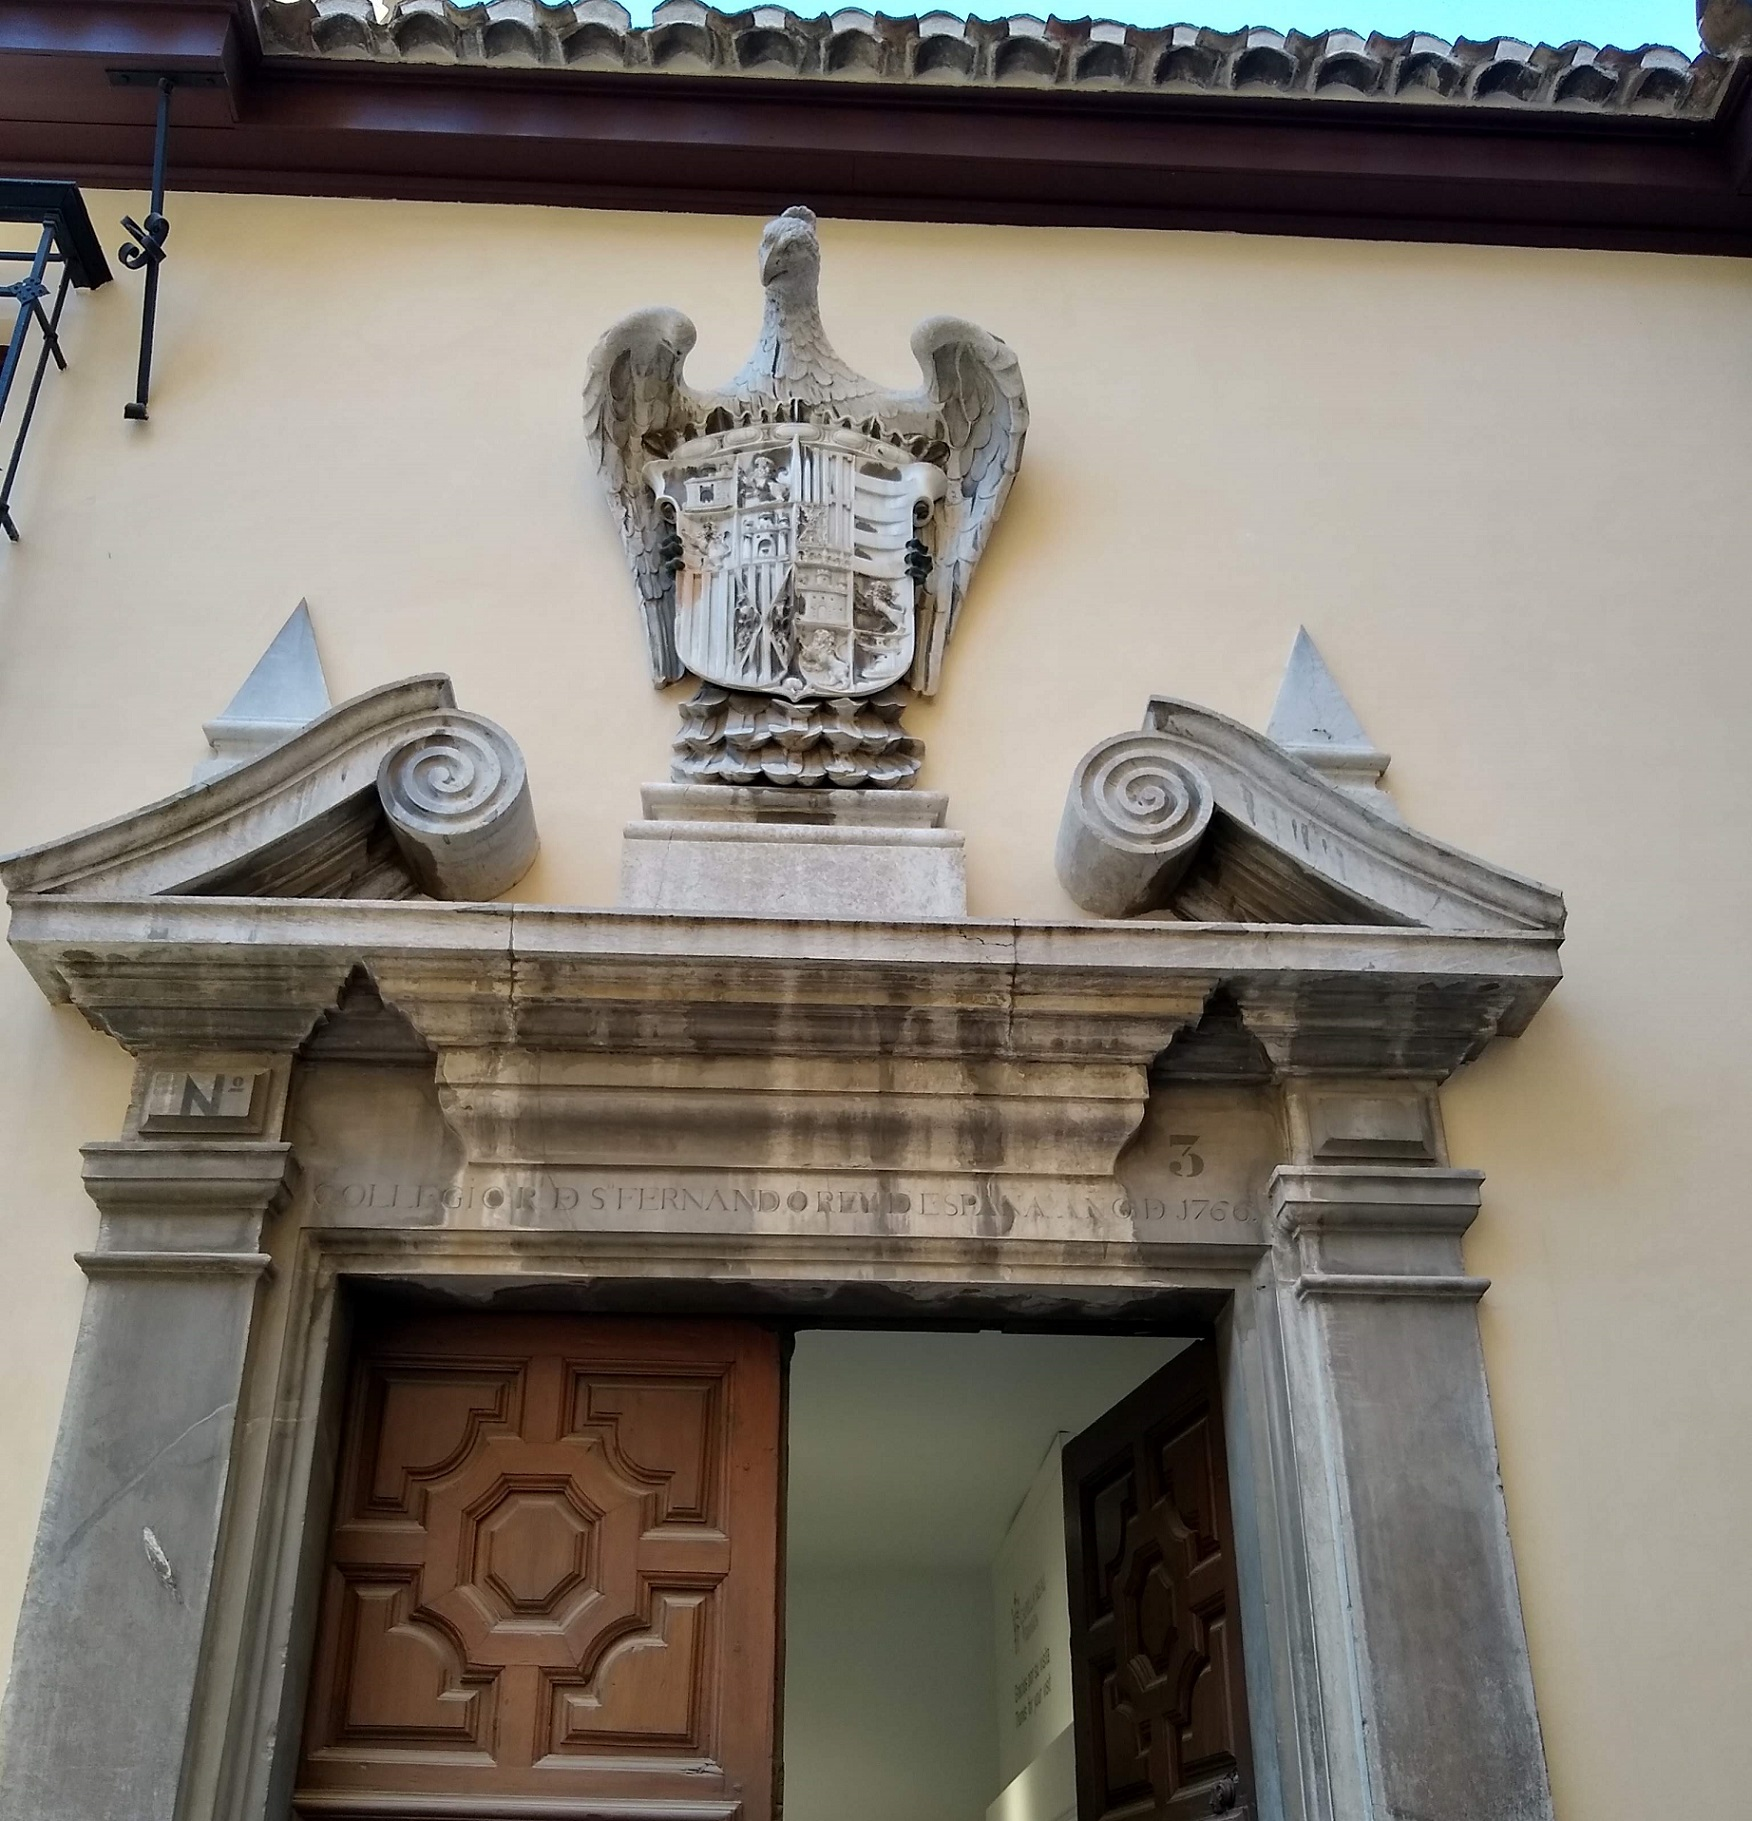fronton-partido: (2, 658, 1614, 1024)
